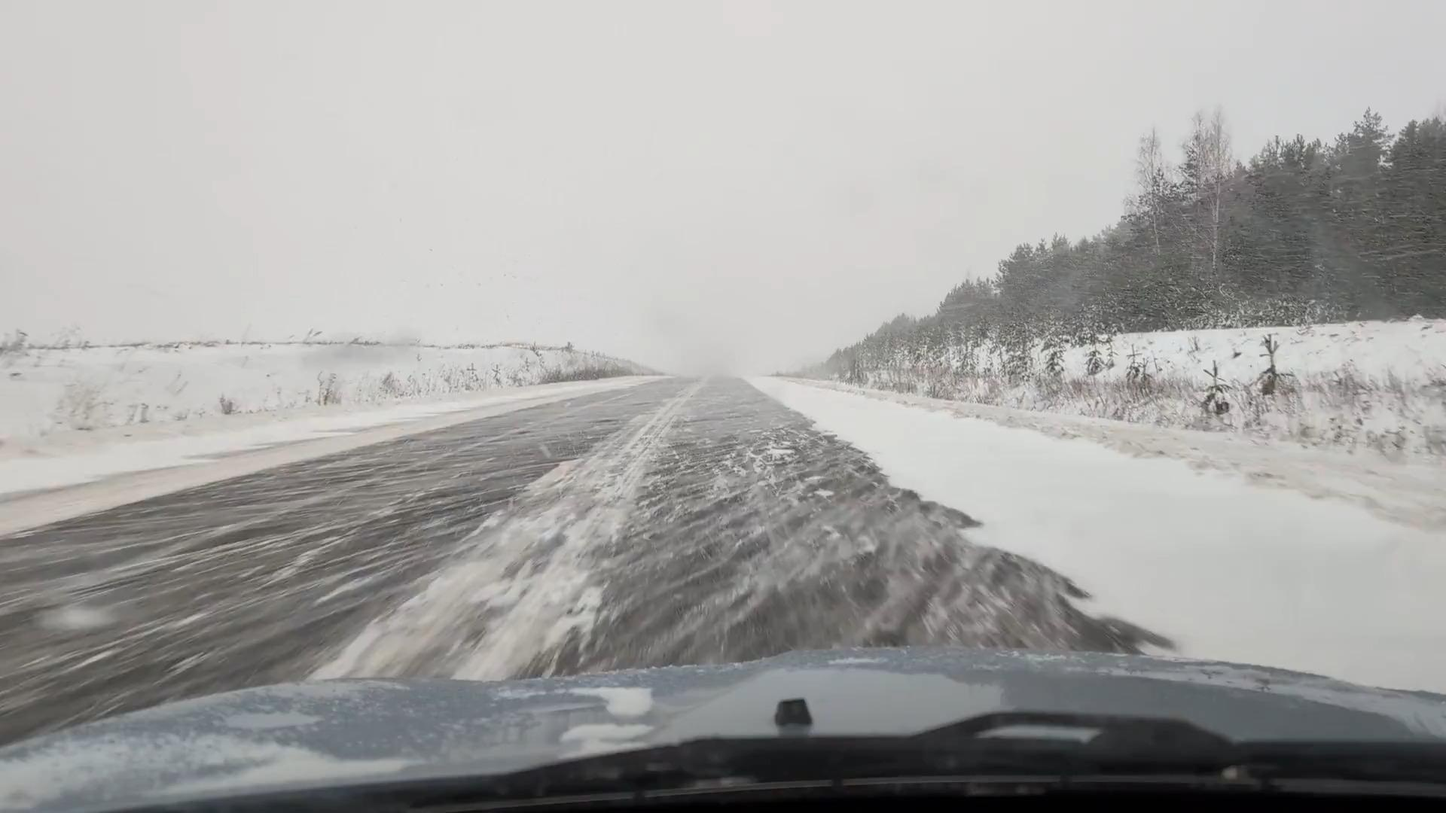Snow: (0, 374, 1445, 740)
